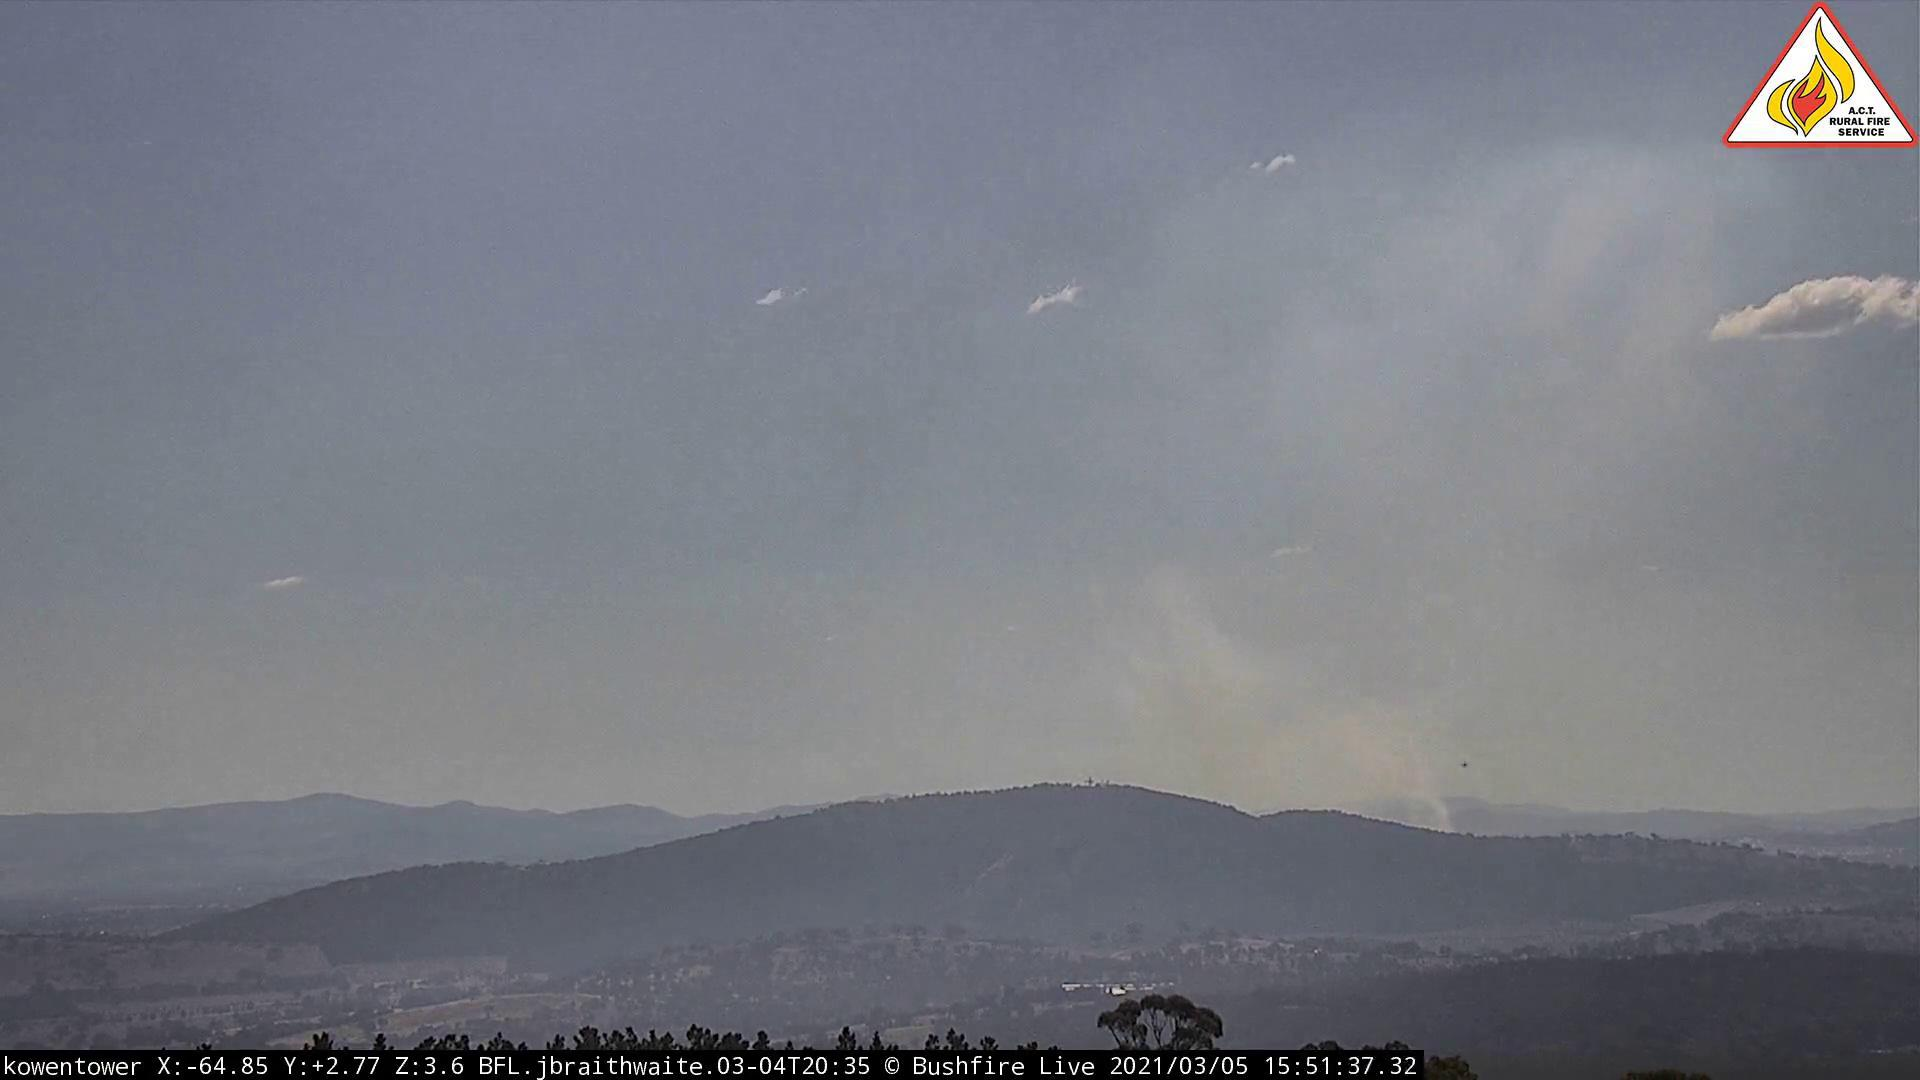Smoke: (1007, 160, 1824, 841)
